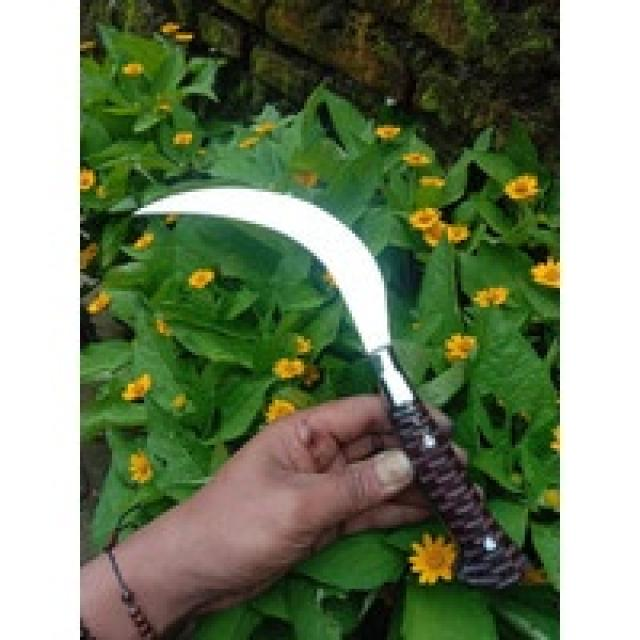Celurit: (135, 189, 530, 595)
